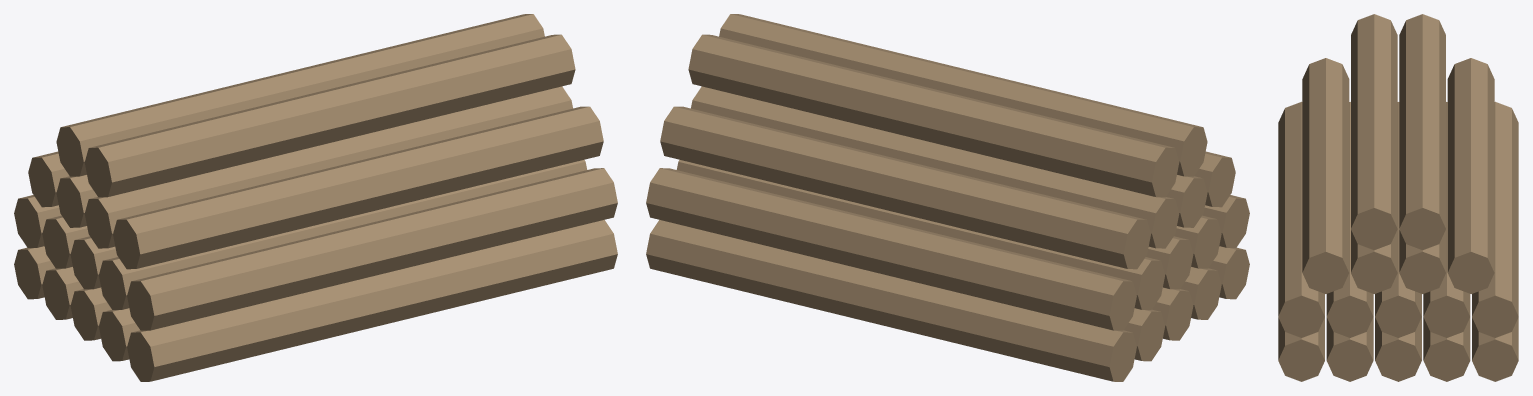
Rendered from log_pile.glb.
3 renders of one model, left to right at view 1: azimuth 30°, elevation 25°; view 2: azimuth 150°, elevation 25°; view 3: azimuth 270°, elevation 25°, orthographic. The views are drawn at different scales.
Parts seen in each view (by area): view 1: log_pile; view 2: log_pile; view 3: log_pile.
Boxes of the visible parts, left/top/right/bottom form: log_pile: left=14, top=14, right=617, bottom=381; log_pile: left=646, top=14, right=1249, bottom=381; log_pile: left=1278, top=14, right=1518, bottom=381.
Bounding box in the file's own units: 1.8 × 0.754 × 0.944.
